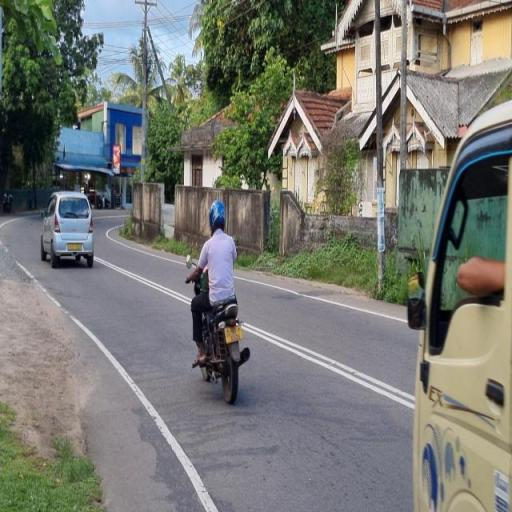double_white_line: (240, 322, 414, 408), (97, 258, 190, 304)
